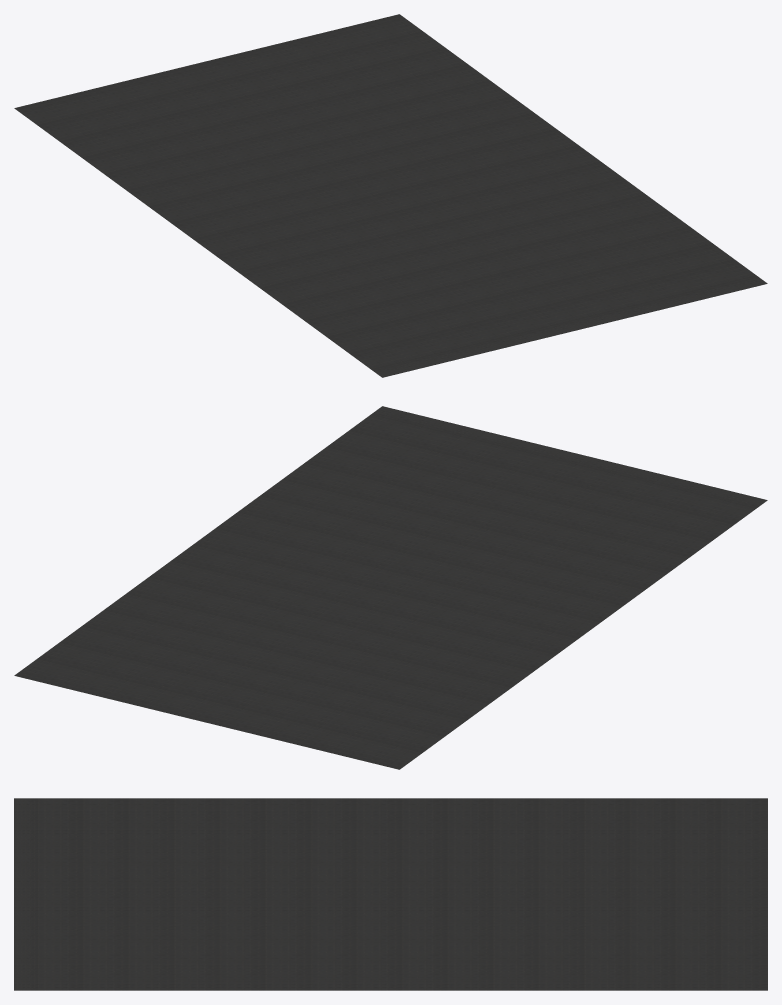
File: piso PVC.fbx
3 renders of one model, top to bottom at view 1: azimuth 30°, elevation 25°; view 2: azimuth 150°, elevation 25°; view 3: azimuth 270°, elevation 25°, orthographic. The views are drawn at different scales.
Parts seen in each view (by area): view 1: Plane.001; view 2: Plane.001; view 3: Plane.001.
Part boxes in pixels (<box>): Plane.001: <box>14,14,767,377</box>; Plane.001: <box>14,406,767,769</box>; Plane.001: <box>14,798,767,990</box>.
Size of the model in its own units: 1000 by 0.00027 by 1655.
Materials: 1 (1 with a texture image).
